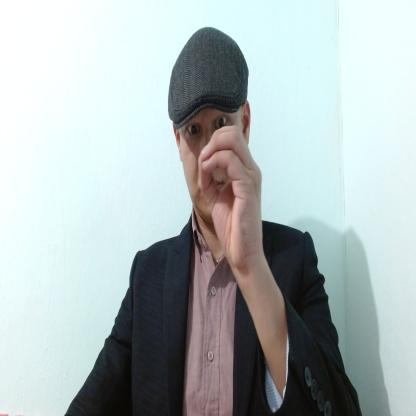O: (198, 123, 262, 265)
